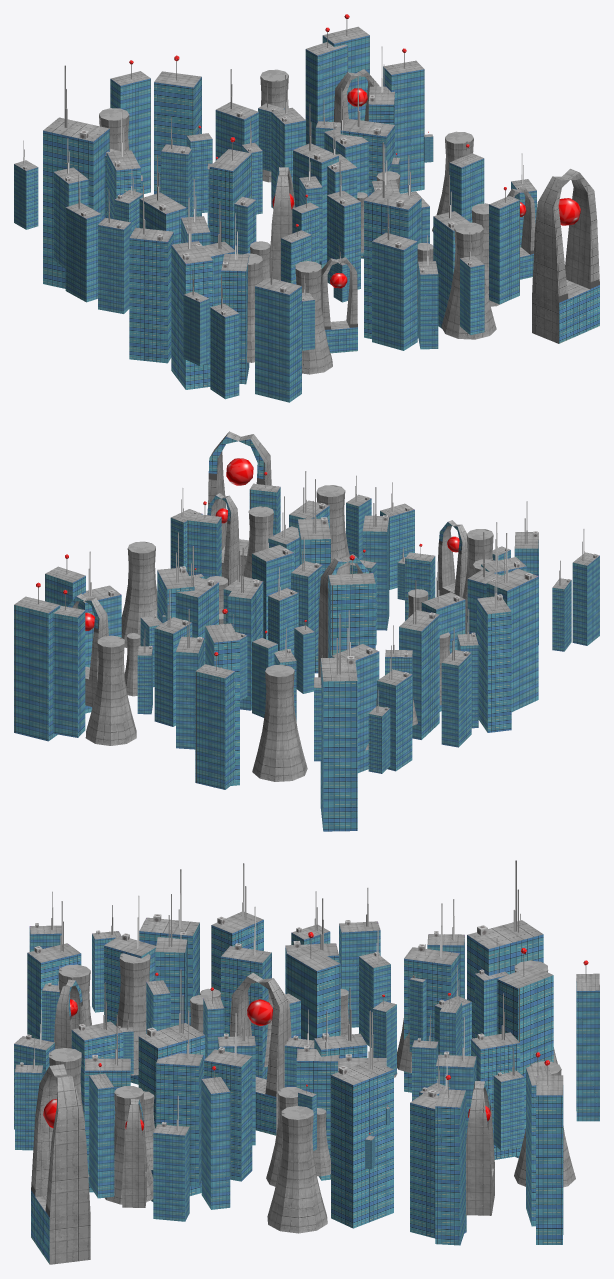
File: Cluster_13.fbx
3 views of the same model, one above another, from view 1: azimuth 30°, elevation 25°; view 2: azimuth 150°, elevation 25°; view 3: azimuth 270°, elevation 25° (orthographic). The views are drawn at different scales.
Parts seen in each view (by area): view 1: pCube2Shape_MASH1_Instancer_79, polySurface10Shape_MASH1_Instancer_40, polySurface10Shape_MASH1_Instancer_1, polySurface10Shape_MASH1_Instancer_71, polySurface10Shape_MASH1_Instancer_65, polySurface10Shape_MASH1_Instancer_50, polySurface11Shape_MASH1_Instancer_29, polySurface11Shape_MASH1_Instancer_14, polySurface10Shape_MASH1_Instancer_55, polySurface11Shape_MASH1_Instancer_78, polySurface10Shape_MASH1_Instancer_20, polySurface11Shape_MASH1_Instancer_43 (+48 smaller); view 2: polySurface10Shape_MASH1_Instancer_1, polySurface11Shape_MASH1_Instancer_9, polySurface11Shape_MASH1_Instancer_4, polySurface10Shape_MASH1_Instancer_40, polySurface10Shape_MASH1_Instancer_50, polySurfaceShape12_MASH1_Instancer_3, polySurface11Shape_MASH1_Instancer_8, polySurfaceShape12_MASH1_Instancer_7, polySurface10Shape_MASH1_Instancer_31, polySurface11Shape_MASH1_Instancer_43, polySurface10Shape_MASH1_Instancer_20, pCube2Shape_MASH1_Instancer_79 (+48 smaller); view 3: pCube2Shape_MASH1_Instancer_79, polySurface10Shape_MASH1_Instancer_27, polySurfaceShape12_MASH1_Instancer_49, polySurface11Shape_MASH1_Instancer_14, polySurface11Shape_MASH1_Instancer_9, polySurface11Shape_MASH1_Instancer_29, pCube2Shape_MASH1_Instancer_44, polySurface10Shape_MASH1_Instancer_56, polySurface11Shape_MASH1_Instancer_43, polySurface10Shape_MASH1_Instancer_18, polySurface11Shape_MASH1_Instancer_58, polySurface10Shape_MASH1_Instancer_1 (+51 smaller).
Part boxes in pixels (x1,y1,x2,y2): pCube2Shape_MASH1_Instancer_79: [532, 168, 599, 343]; polySurface10Shape_MASH1_Instancer_40: [129, 185, 173, 363]; polySurface10Shape_MASH1_Instancer_1: [43, 65, 109, 288]; polySurface10Shape_MASH1_Instancer_71: [255, 241, 301, 402]; polySurface10Shape_MASH1_Instancer_65: [372, 199, 417, 350]; polySurface10Shape_MASH1_Instancer_50: [171, 197, 213, 389]; polySurface11Shape_MASH1_Instancer_29: [383, 48, 424, 193]; polySurface11Shape_MASH1_Instancer_14: [154, 55, 201, 216]; polySurface10Shape_MASH1_Instancer_55: [364, 142, 421, 338]; polySurface11Shape_MASH1_Instancer_78: [489, 187, 519, 304]; polySurface10Shape_MASH1_Instancer_20: [65, 175, 101, 302]; polySurface11Shape_MASH1_Instancer_43: [209, 137, 251, 249]; polySurface10Shape_MASH1_Instancer_1: [320, 613, 357, 831]; polySurface11Shape_MASH1_Instancer_9: [14, 582, 60, 741]; polySurface11Shape_MASH1_Instancer_4: [195, 652, 234, 789]; polySurface10Shape_MASH1_Instancer_40: [477, 560, 511, 732]; polySurface10Shape_MASH1_Instancer_50: [486, 533, 538, 711]; polySurfaceShape12_MASH1_Instancer_3: [252, 664, 307, 781]; polySurface11Shape_MASH1_Instancer_8: [53, 590, 85, 737]; polySurfaceShape12_MASH1_Instancer_7: [85, 635, 136, 745]; polySurface10Shape_MASH1_Instancer_31: [399, 580, 439, 739]; polySurface11Shape_MASH1_Instancer_43: [328, 555, 375, 657]; polySurface10Shape_MASH1_Instancer_20: [441, 627, 471, 747]; pCube2Shape_MASH1_Instancer_79: [208, 431, 271, 576]; pCube2Shape_MASH1_Instancer_79: [31, 1064, 90, 1264]; polySurface10Shape_MASH1_Instancer_27: [331, 1010, 393, 1228]; polySurfaceShape12_MASH1_Instancer_49: [267, 1106, 327, 1233]; polySurface11Shape_MASH1_Instancer_14: [497, 948, 553, 1158]; polySurface11Shape_MASH1_Instancer_9: [536, 1060, 563, 1244]; polySurface11Shape_MASH1_Instancer_29: [435, 1075, 465, 1245]; pCube2Shape_MASH1_Instancer_44: [230, 972, 291, 1135]; polySurface10Shape_MASH1_Instancer_56: [156, 1010, 203, 1186]; polySurface11Shape_MASH1_Instancer_43: [286, 932, 340, 1040]; polySurface10Shape_MASH1_Instancer_18: [410, 1052, 466, 1238]; polySurface11Shape_MASH1_Instancer_58: [201, 1066, 230, 1209]; polySurface10Shape_MASH1_Instancer_1: [467, 860, 543, 1038].
Size of the model in its own units: 113 by 59.25 by 128.
